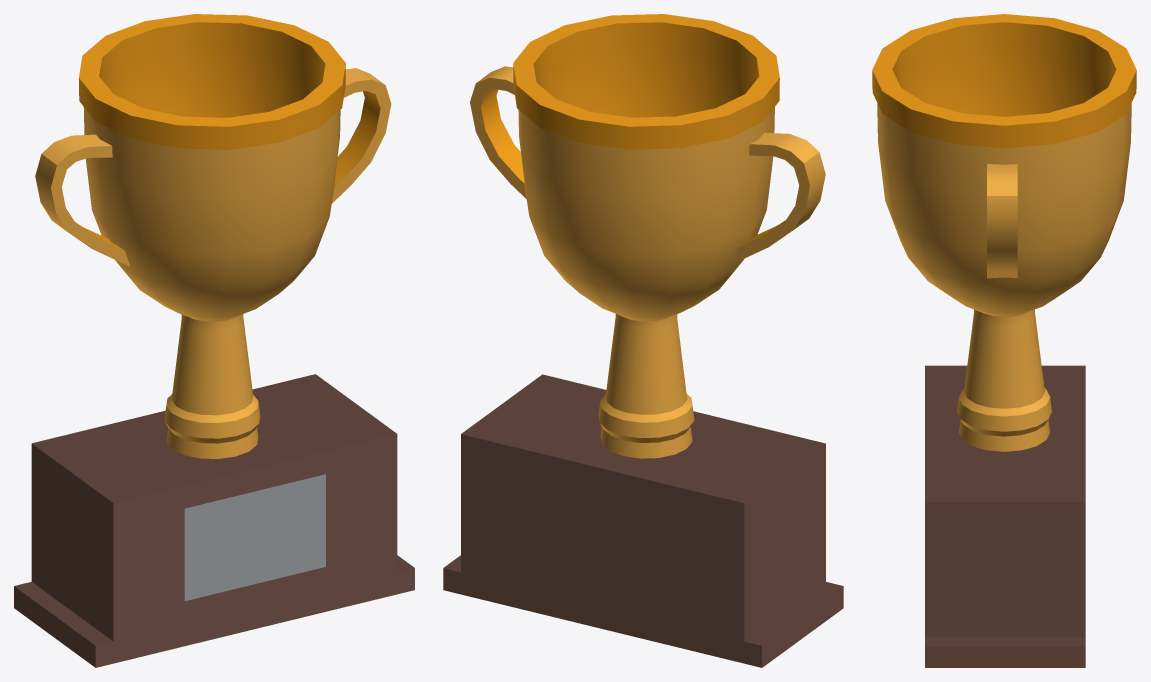
Rendered from trophy.fbx.
3 views of the same model, side by side, from view 1: azimuth 30°, elevation 25°; view 2: azimuth 150°, elevation 25°; view 3: azimuth 270°, elevation 25° (orthographic).
Visible parts, largest first — view 1: trophy; view 2: trophy; view 3: trophy.
Part boxes in pixels (x1,y1,x2,y2): trophy: (14, 14, 414, 667); trophy: (443, 14, 843, 667); trophy: (872, 14, 1136, 667).
Size of the model in its own units: 10.42 by 15.49 by 7.13.
